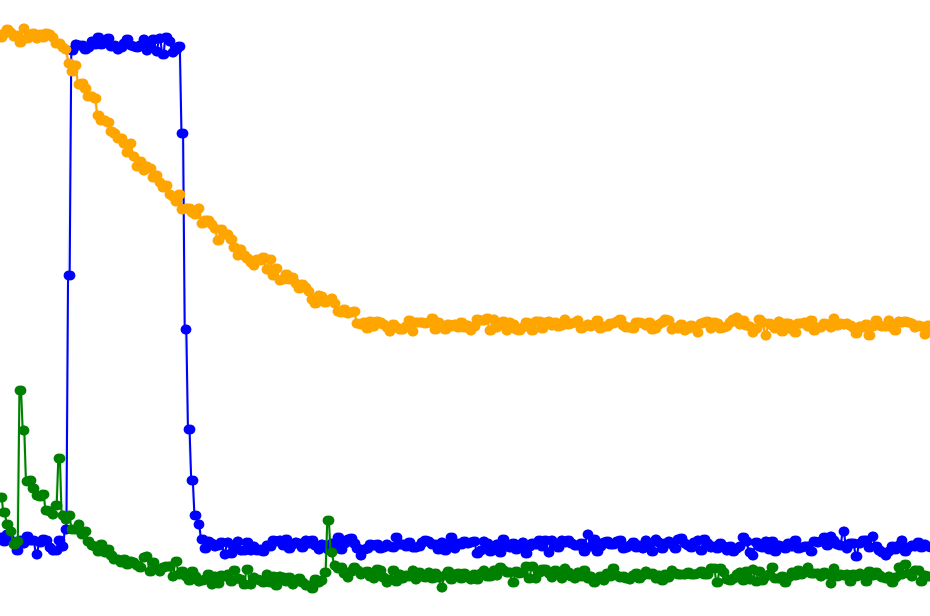CO2 Problem: (194, 0, 930, 616)
Condensation (CO2): (77, 0, 194, 616)
Normal: (0, 0, 194, 616), (194, 0, 388, 616)
O2 Problem: (388, 0, 930, 616)
